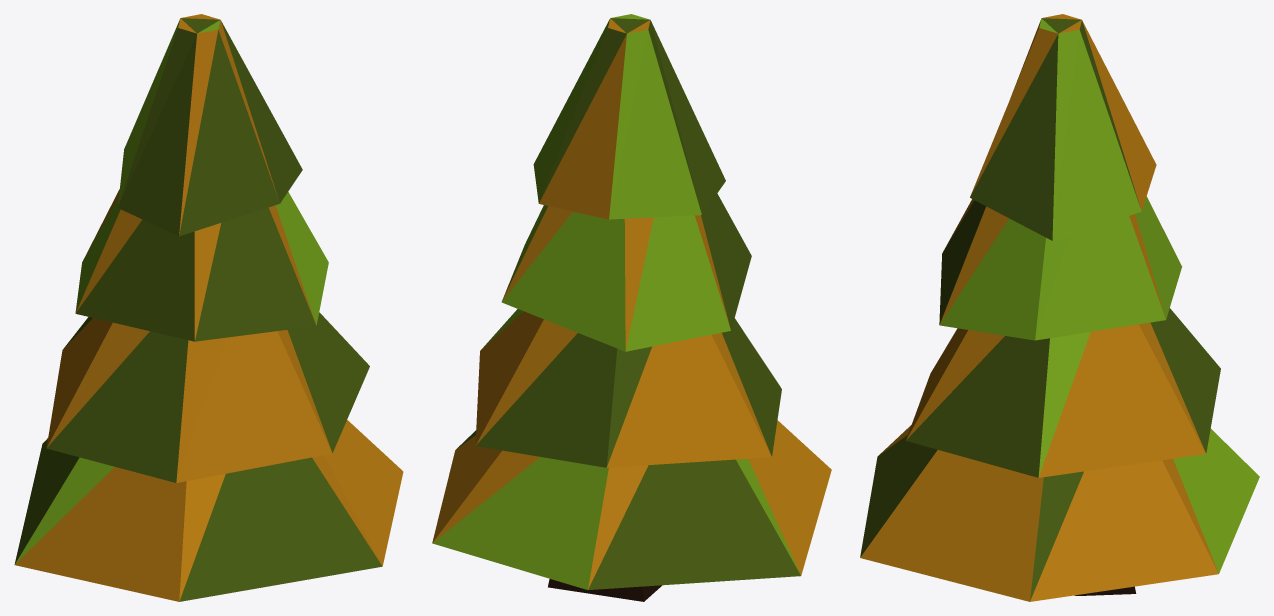
The model's file is Tree2_M2_7_big.fbx.
The picture shows the model from 3 angles, left to right: view 1: azimuth 30°, elevation 25°; view 2: azimuth 150°, elevation 25°; view 3: azimuth 270°, elevation 25°; orthographic projection.
Visible parts, largest first — view 1: Tree2_M2_7_big; view 2: Tree2_M2_7_big; view 3: Tree2_M2_7_big.
Boxes of the visible parts, x1,y1,x2,y2 form: Tree2_M2_7_big: [14, 14, 403, 601]; Tree2_M2_7_big: [432, 14, 831, 601]; Tree2_M2_7_big: [860, 14, 1259, 601].
Size of the model in its own units: 356 by 505 by 334.
